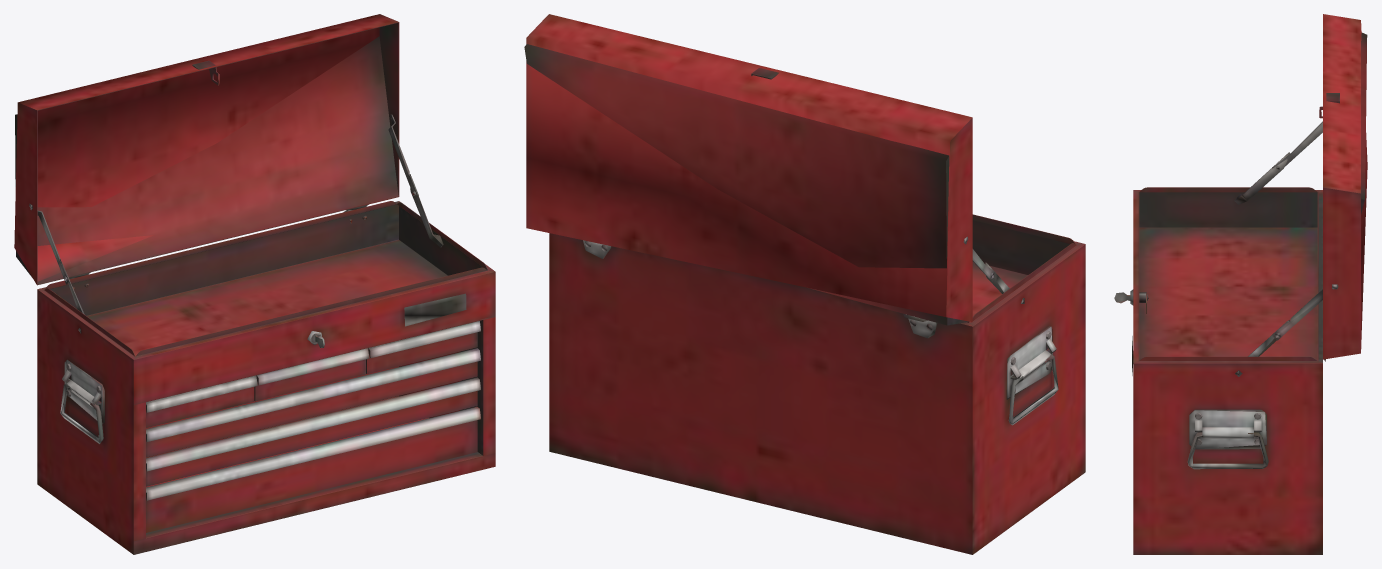
File: metal_tool_chest.glb
3 renders of one model, left to right at view 1: azimuth 30°, elevation 25°; view 2: azimuth 150°, elevation 25°; view 3: azimuth 270°, elevation 25°, orthographic. The views are drawn at different scales.
Visible parts, largest first — view 1: metal_tool_chest_chest, metal_tool_chest_lid, metal_tool_chest_hinge_lid, metal_tool_chest_handle_left, metal_tool_chest_hinge_chest; view 2: metal_tool_chest_chest, metal_tool_chest_lid, metal_tool_chest_handle_left; view 3: metal_tool_chest_chest, metal_tool_chest_lid, metal_tool_chest_hinge_lid, metal_tool_chest_hinge_chest, metal_tool_chest_handle_right.
Part boxes in pixels (bbox=[...]): metal_tool_chest_chest: bbox=[37, 201, 495, 554]; metal_tool_chest_lid: bbox=[14, 14, 399, 285]; metal_tool_chest_hinge_lid: bbox=[29, 114, 418, 284]; metal_tool_chest_handle_left: bbox=[60, 383, 103, 443]; metal_tool_chest_hinge_chest: bbox=[60, 174, 443, 333]; metal_tool_chest_chest: bbox=[549, 214, 1085, 554]; metal_tool_chest_lid: bbox=[524, 14, 972, 325]; metal_tool_chest_handle_left: bbox=[1008, 354, 1058, 425]; metal_tool_chest_chest: bbox=[1132, 187, 1325, 554]; metal_tool_chest_lid: bbox=[1319, 14, 1367, 359]; metal_tool_chest_hinge_lid: bbox=[1272, 121, 1338, 340]; metal_tool_chest_hinge_chest: bbox=[1234, 152, 1290, 376]; metal_tool_chest_handle_right: bbox=[1187, 432, 1268, 469].
Size of the model in its own units: 0.6841 by 0.6518 by 0.4072.
1 material, 1 textured.
